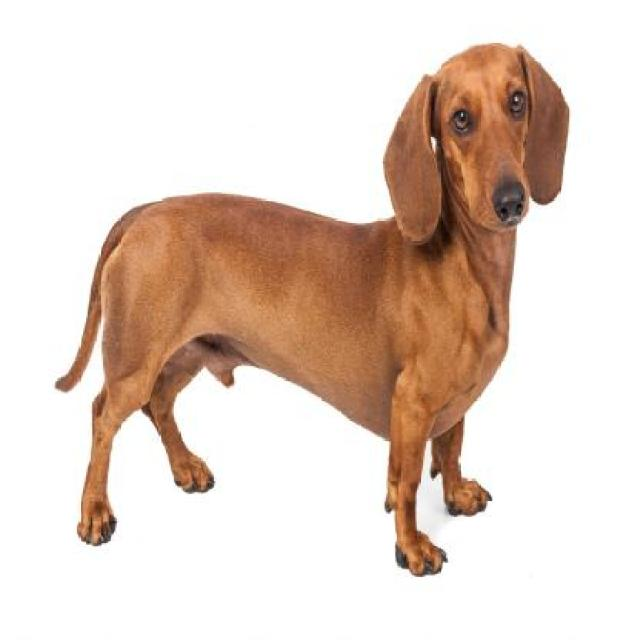Dog: (43, 36, 572, 582)
